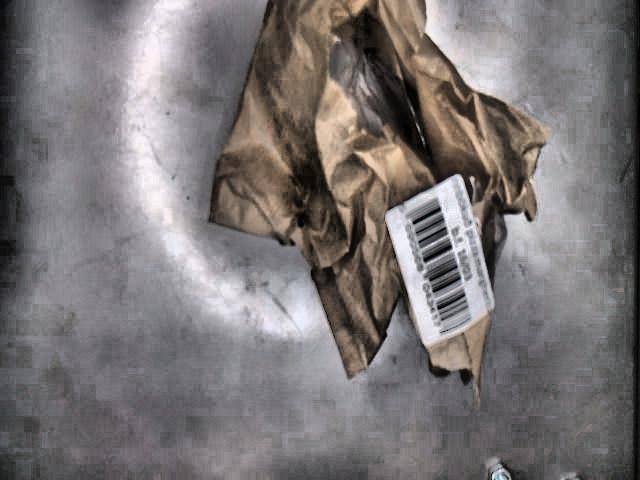Paper: (203, 0, 550, 416)
